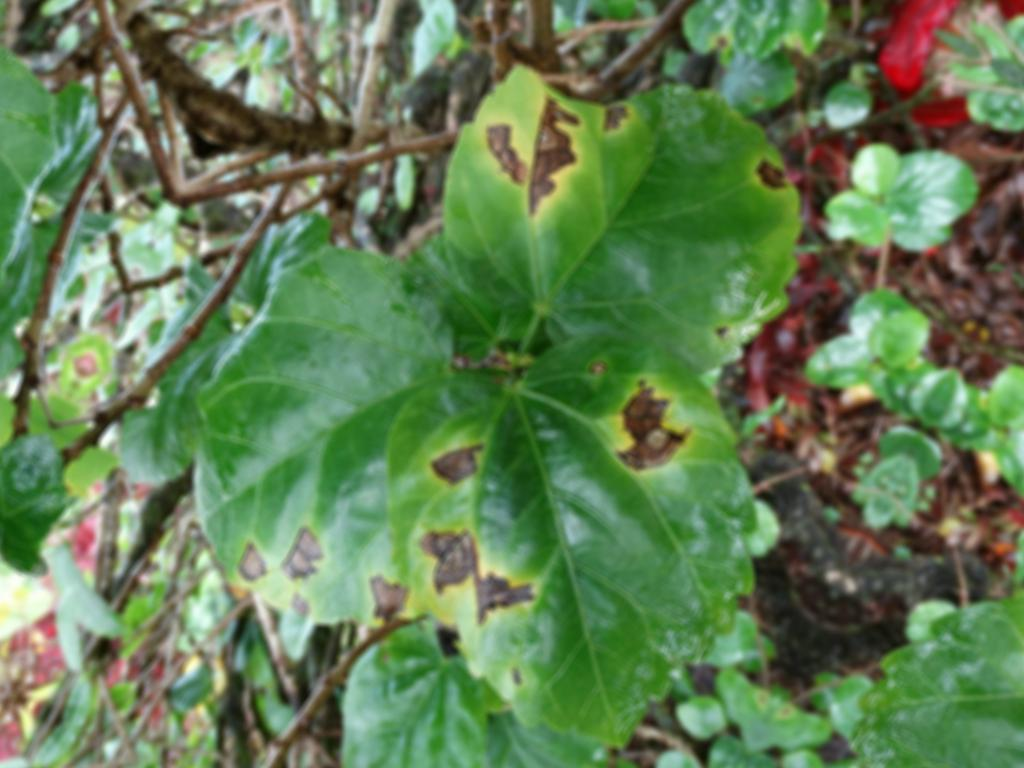Tomato Septoria leaf spot: (310, 262, 831, 768), (391, 0, 854, 424)
